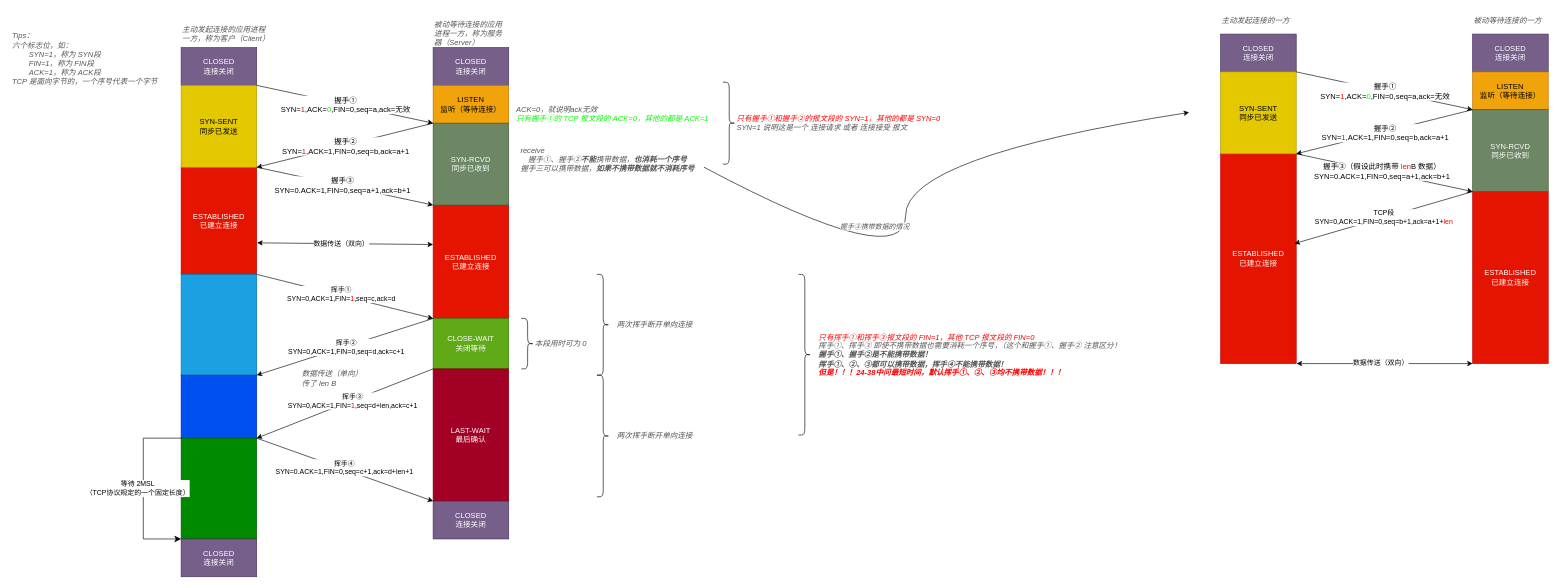
This 1559x588 diagram has some shape labels left out. The shapes that lost their labels are listed below. From the top down, each one's centre as x and y in pixels, then its label:
At point 218,324: "FIN-WAIT1 终止等待1".
At point 218,406: "FIN-WAIT2 终止等待2".
At point 218,488: "TIME-WAIT 时间等待".
